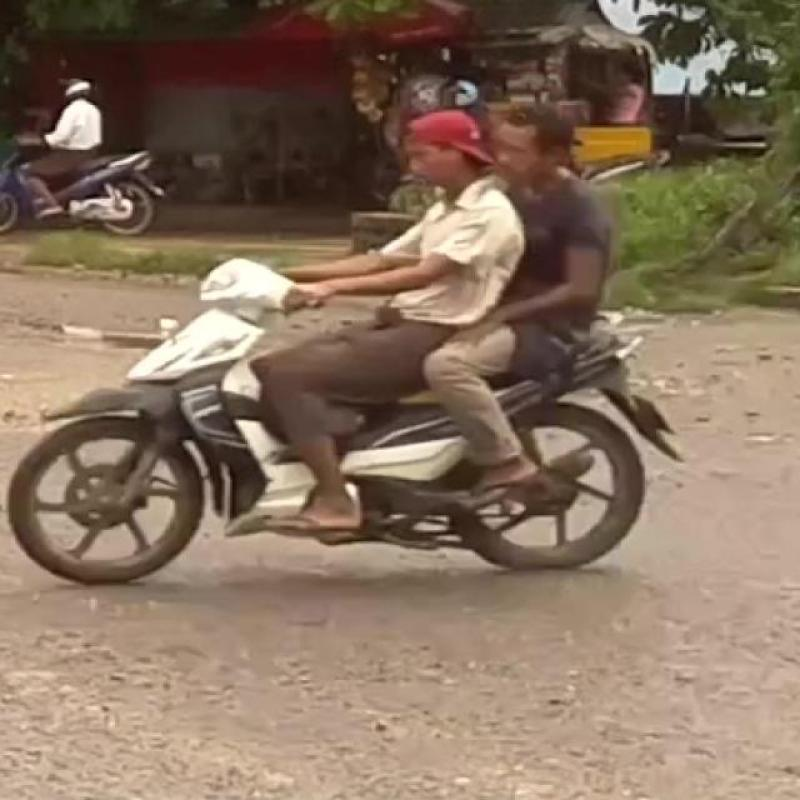nohelmet: (392, 112, 507, 218)
